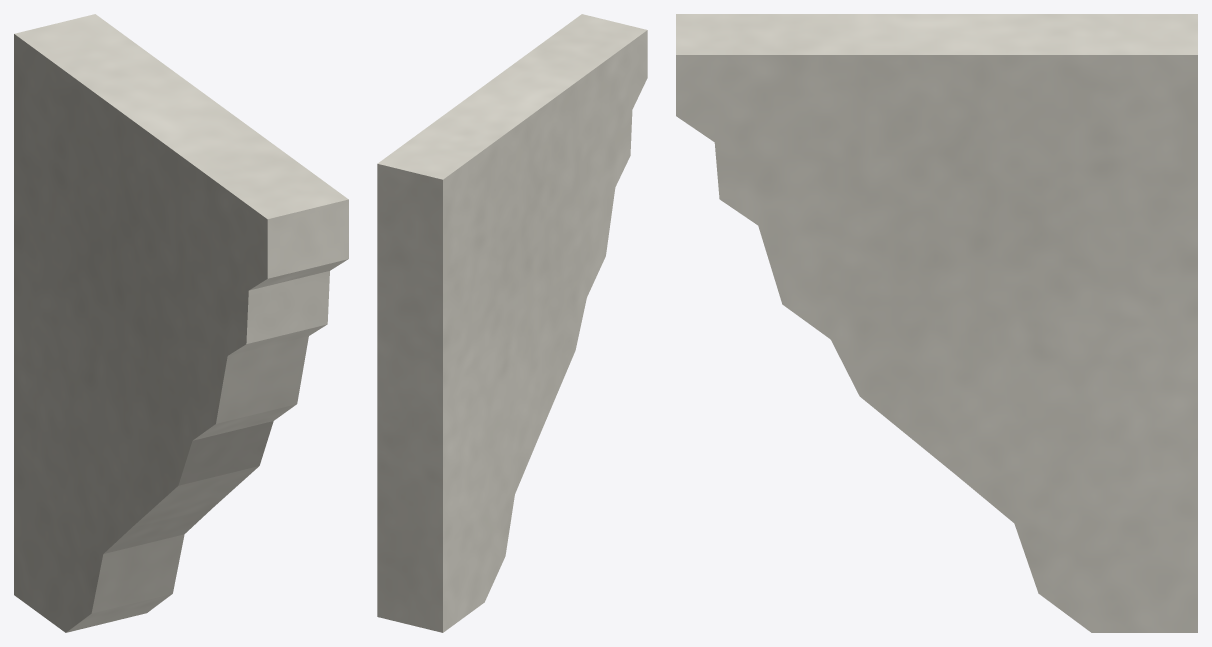
Rendered from PZ_InteriorTrim_V12_Crown_EndReturn.glb.
The picture shows the model from 3 angles, left to right: view 1: azimuth 30°, elevation 25°; view 2: azimuth 150°, elevation 25°; view 3: azimuth 270°, elevation 25°; orthographic projection. The views are drawn at different scales.
Parts seen in each view (by area): view 1: V12_Crown_EndReturn__Crown_Finished_Return; view 2: V12_Crown_EndReturn__Crown_Finished_Return; view 3: V12_Crown_EndReturn__Crown_Finished_Return.
Boxes of the visible parts, x1=… form: V12_Crown_EndReturn__Crown_Finished_Return: x1=14, y1=14, x2=348, y2=632; V12_Crown_EndReturn__Crown_Finished_Return: x1=377, y1=14, x2=647, y2=632; V12_Crown_EndReturn__Crown_Finished_Return: x1=676, y1=14, x2=1197, y2=632.
Size of the model in its own units: 0.02 by 0.132 by 0.108.
1 material, 1 textured.
